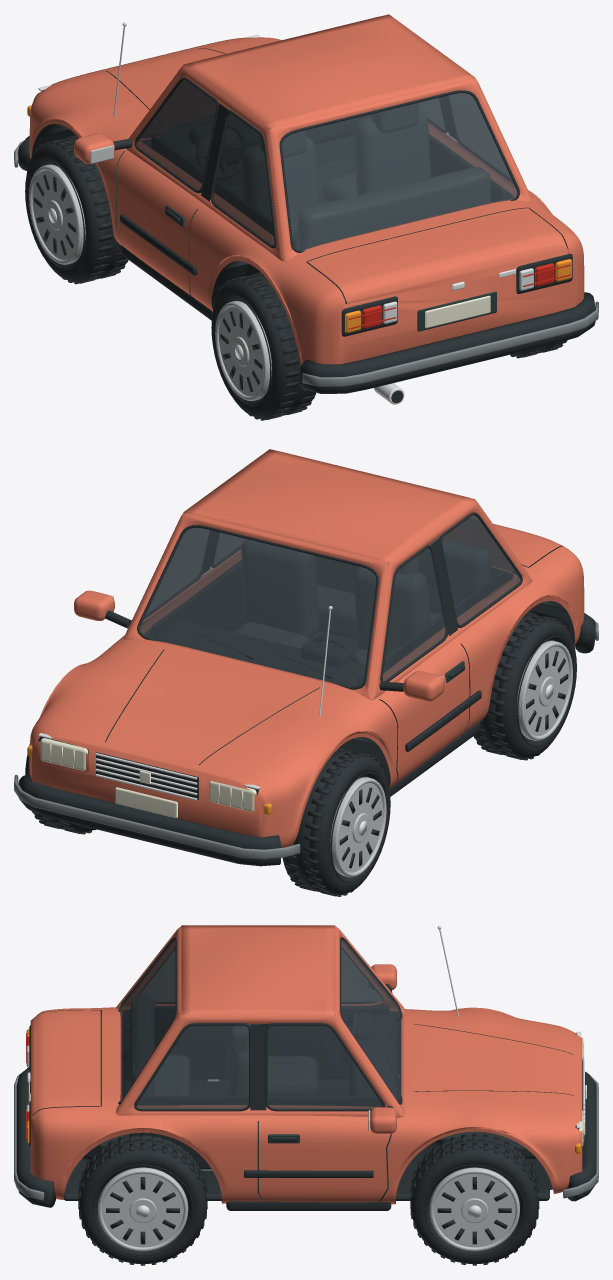
Rendered from marlow.fbx.
3 views of the same model, one above another, from view 1: azimuth 30°, elevation 25°; view 2: azimuth 150°, elevation 25°; view 3: azimuth 270°, elevation 25° (orthographic). The views are drawn at different scales.
Parts seen in each view (by area): view 1: Body, Wheel_RL_Mesh, Wheel_FL_Mesh; view 2: Body, Wheel_FL_Mesh, Wheel_RL_Mesh, Wheel_FR_Mesh; view 3: Body, Wheel_RR_Mesh, Wheel_FR_Mesh, Wheel_RL_Mesh.
Boxes of the visible parts, x1,y1,x2,y2 form: Body: (14, 14, 598, 404); Wheel_RL_Mesh: (211, 272, 316, 420); Wheel_FL_Mesh: (25, 135, 128, 284); Body: (14, 449, 598, 866); Wheel_FL_Mesh: (282, 748, 390, 896); Wheel_RL_Mesh: (473, 612, 576, 760); Wheel_FR_Mesh: (25, 744, 96, 834); Body: (14, 925, 598, 1210); Wheel_RR_Mesh: (78, 1134, 207, 1265); Wheel_FR_Mesh: (410, 1134, 539, 1265); Wheel_RL_Mesh: (122, 1026, 207, 1080).
Bounding box in the file's own units: 231 × 165 × 365.
